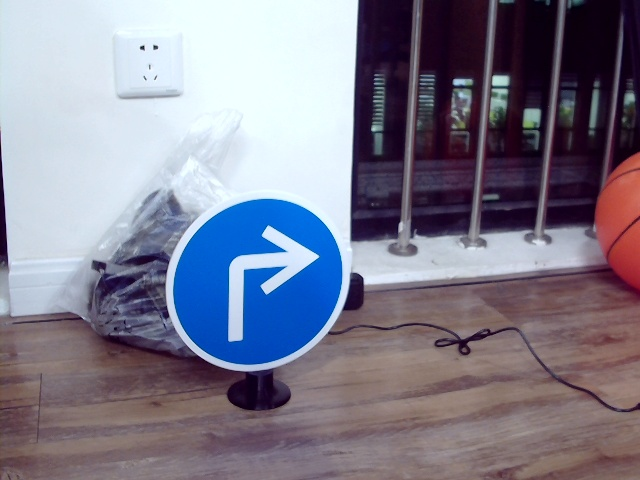turn_right: (221, 221, 322, 340)
